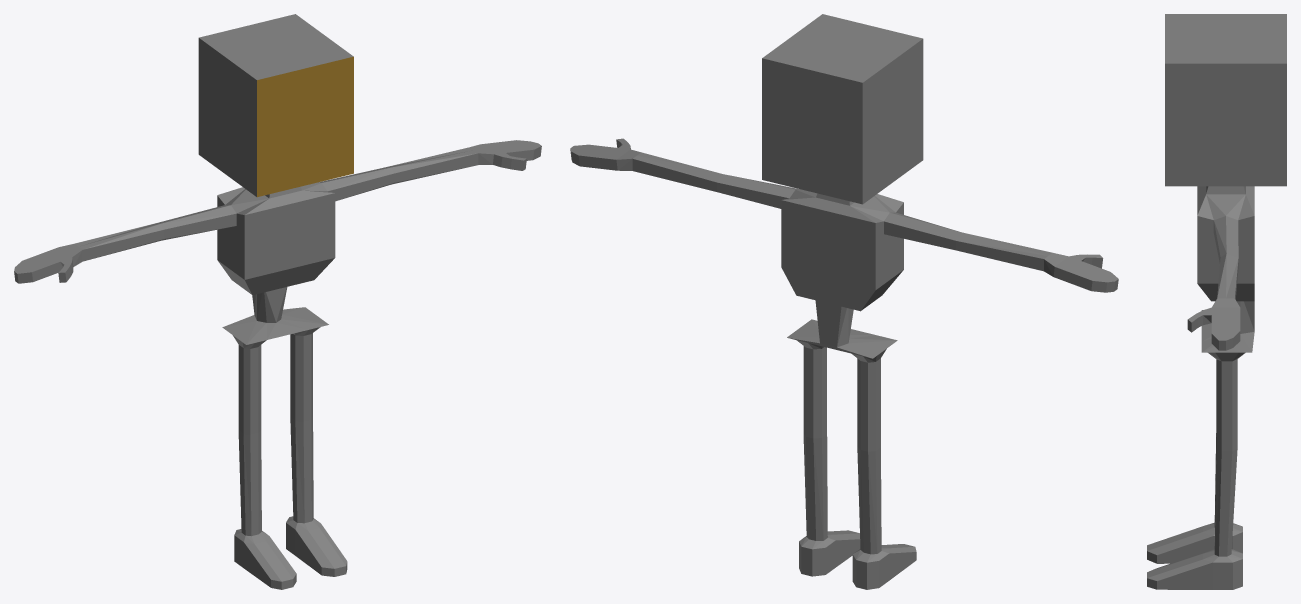
File: skeleton.obj
3 renders of one model, left to right at view 1: azimuth 30°, elevation 25°; view 2: azimuth 150°, elevation 25°; view 3: azimuth 270°, elevation 25°, orthographic. The views are drawn at different scales.
Bounding box in the file's own units: 16 × 14.79 × 3.53.
